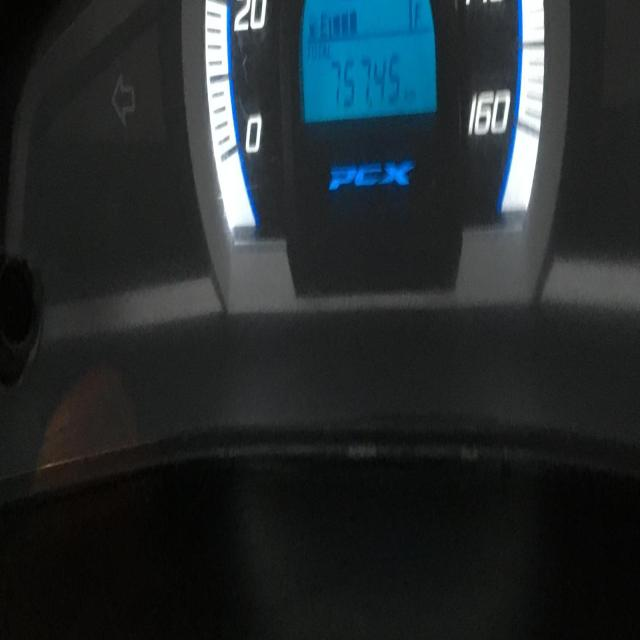odometer: (296, 0, 438, 124)
